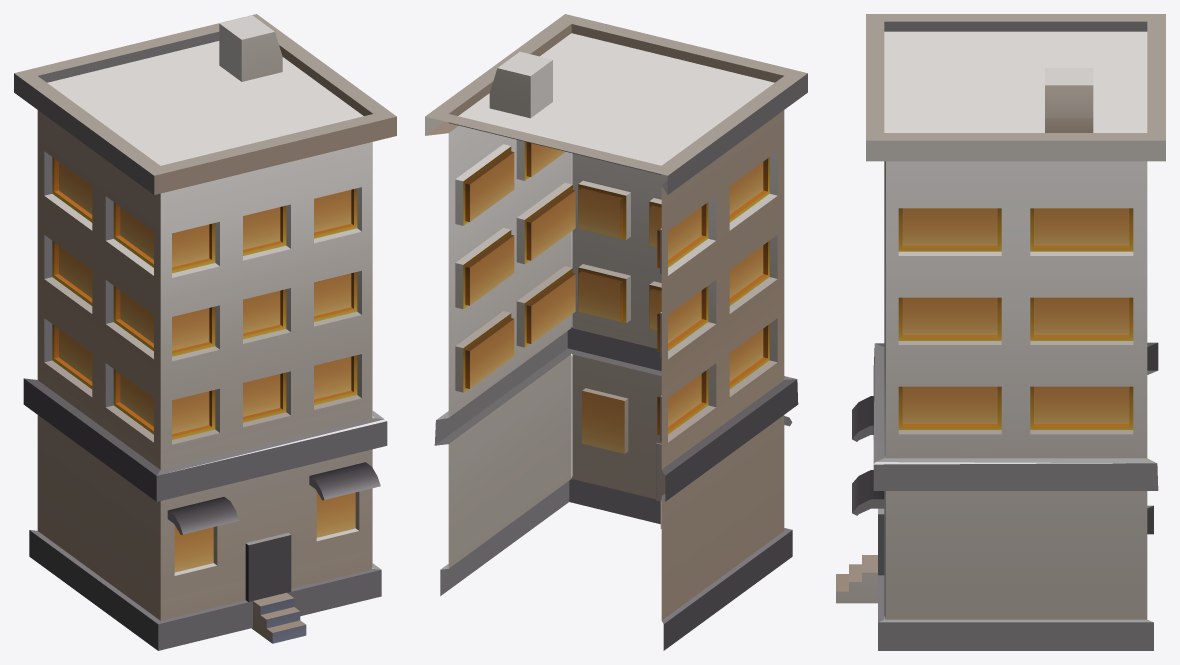
The model's file is SM_Building_2.fbx.
3 views of the same model, side by side, from view 1: azimuth 30°, elevation 25°; view 2: azimuth 150°, elevation 25°; view 3: azimuth 270°, elevation 25° (orthographic). The views are drawn at different scales.
Visible parts, largest first — view 1: SM_Building_2; view 2: SM_Building_2; view 3: SM_Building_2.
Boxes of the visible parts, x1,y1,x2,y2 form: SM_Building_2: [14, 14, 396, 650]; SM_Building_2: [425, 14, 807, 650]; SM_Building_2: [836, 14, 1165, 650].
Size of the model in its own units: 636 by 1293 by 700.
